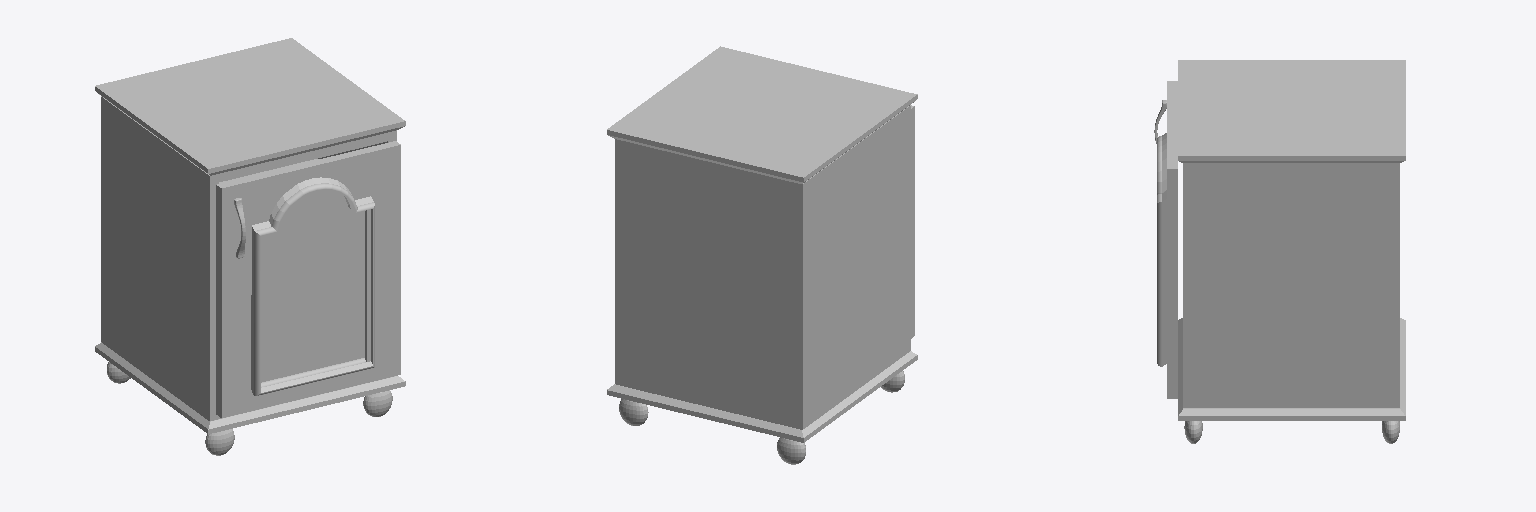
Rendered from komidin xountry  3.obj.
The picture shows the model from 3 angles: view 1: azimuth 30°, elevation 25°; view 2: azimuth 150°, elevation 25°; view 3: azimuth 270°, elevation 25°; orthographic projection.
Parts seen in each view (by area): view 1: Null1 Boole1 Cube2, Null1 Extrude2 Cap_22, Null Boole Cube1, Null Cube, Null Extrude Rounding_1, Null1 Extrude_1 Rounding, Null Extrude, Null1 Extrude_1, Null1 Extrude2, Sphere_1, Sphere, Null Extrude Rounding_2; view 2: Null1 Boole1 Cube2, Null1 Extrude2 Cap_22, Null1 Extrude_1 Rounding, Null1 Extrude_1, Null1 Extrude2, Null Boole Cube1, Sphere_2, Sphere_3; view 3: Null1 Boole1 Cube2, Null1 Extrude2 Cap_22, Null Boole Cube1, Null1 Extrude_1 Rounding, Null Extrude, Null Extrude Rounding_1, Null1 Extrude_1, Null1 Extrude2.
Part boxes in pixels (x1,y1,x2,y2): Null1 Boole1 Cube2: (101,96,396,420); Null1 Extrude2 Cap_22: (95,38,404,168); Null Boole Cube1: (216,141,400,417); Null Cube: (219,143,395,382); Null Extrude Rounding_1: (254,183,374,395); Null1 Extrude_1 Rounding: (95,342,404,429); Null Extrude: (251,177,373,394); Null1 Extrude_1: (95,347,405,433); Null1 Extrude2: (95,87,405,173); Sphere_1: (363,390,392,416); Sphere: (205,429,234,455); Null Extrude Rounding_2: (261,358,365,387); Null1 Boole1 Cube2: (615,105,910,429); Null1 Extrude2 Cap_22: (607,46,917,177); Null1 Extrude_1 Rounding: (607,351,916,437); Null1 Extrude_1: (607,355,917,442); Null1 Extrude2: (607,95,917,182); Null Boole Cube1: (911,105,914,338); Sphere_2: (777,437,805,464); Sphere_3: (619,399,648,425); Null1 Boole1 Cube2: (1183,163,1399,407); Null1 Extrude2 Cap_22: (1178,60,1405,155); Null Boole Cube1: (1167,81,1177,398); Null1 Extrude_1 Rounding: (1178,318,1405,415); Null Extrude: (1162,133,1166,366); Null Extrude Rounding_1: (1157,136,1161,366); Null1 Extrude_1: (1178,416,1405,420); Null1 Extrude2: (1178,156,1405,160).
Bounding box in the file's own units: 42 × 60.34 × 46.34.